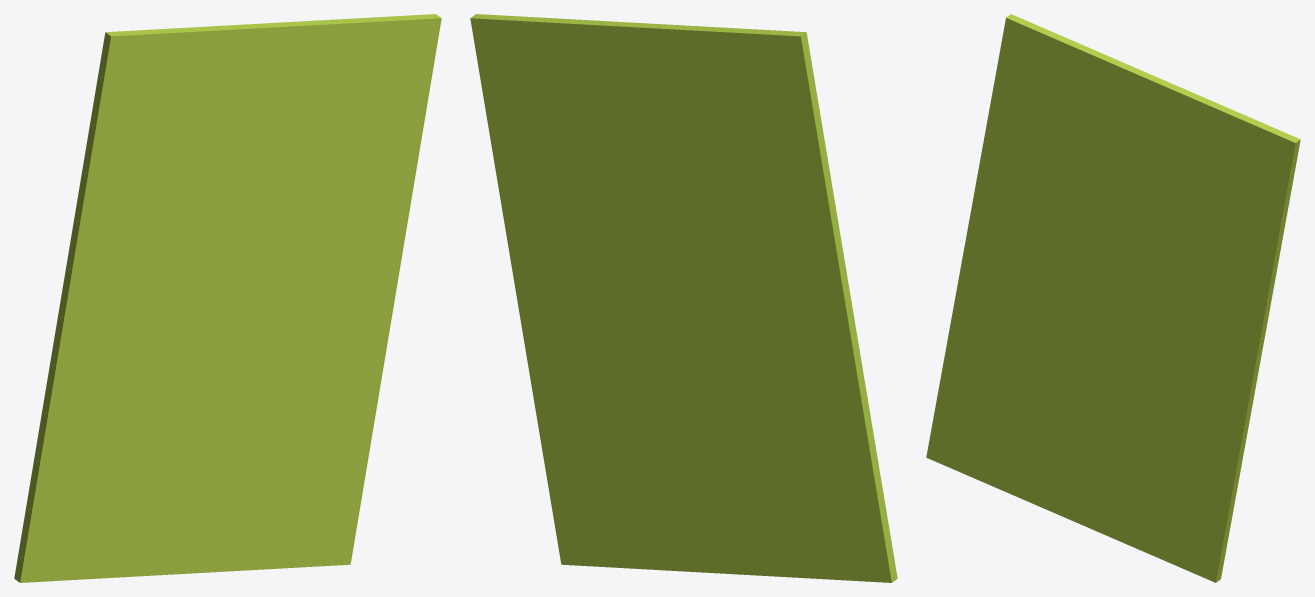
3 renders of one model, left to right at view 1: azimuth 30°, elevation 25°; view 2: azimuth 150°, elevation 25°; view 3: azimuth 330°, elevation 25°, orthographic. The views are drawn at different scales.
Parts seen in each view (by area): view 1: osm-way27917482-F1; view 2: osm-way27917482-F1; view 3: osm-way27917482-F1.
Part boxes in pixels (x1,y1,x2,y2): osm-way27917482-F1: [14, 14, 441, 582]; osm-way27917482-F1: [470, 14, 897, 582]; osm-way27917482-F1: [926, 14, 1300, 582].
Size of the model in its own units: 6.29 by 8.36 by 0.15.
